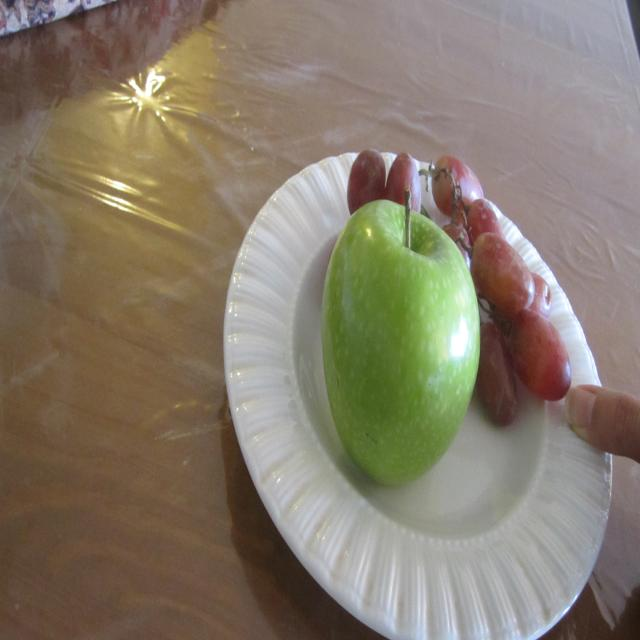apple: (305, 217, 465, 516)
grape: (478, 248, 621, 402)
